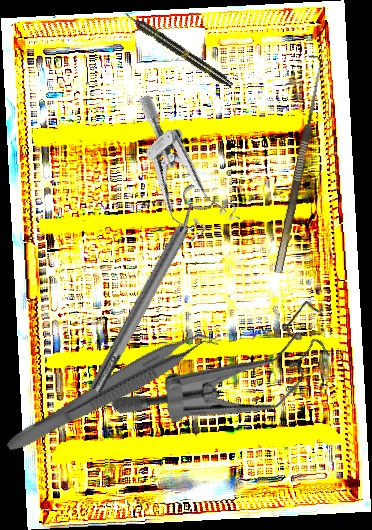Fixation Ring: (77, 182, 220, 398)
Handpiece: (121, 8, 236, 91)
Hook Surgical: (262, 54, 328, 274)
Speculum: (108, 244, 353, 492), (96, 91, 253, 255)
Tissue Forceps: (3, 319, 220, 466)
